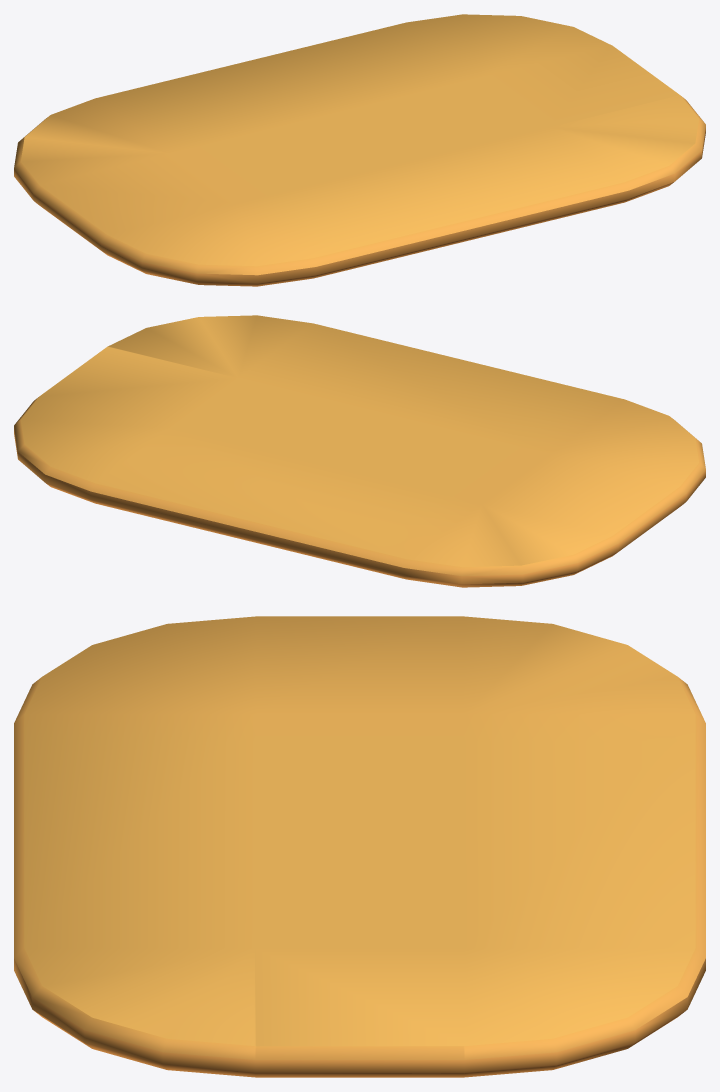
The model's file is matta.glb.
3 renders of one model, top to bottom at view 1: azimuth 30°, elevation 25°; view 2: azimuth 150°, elevation 25°; view 3: azimuth 270°, elevation 25°, orthographic. The views are drawn at different scales.
Visible parts, largest first — view 1: rug_oval_A; view 2: rug_oval_A; view 3: rug_oval_A.
Part boxes in pixels (box(x1,y1,x2,y2)): rug_oval_A: box(14, 14, 705, 286); rug_oval_A: box(14, 315, 705, 587); rug_oval_A: box(14, 616, 705, 1077).
Size of the model in its own units: 3 by 0.1 by 2.
Materials: 1 (1 with a texture image).
